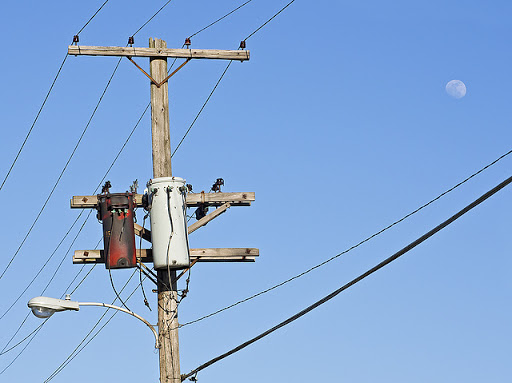utility_pole: (48, 21, 270, 289)
